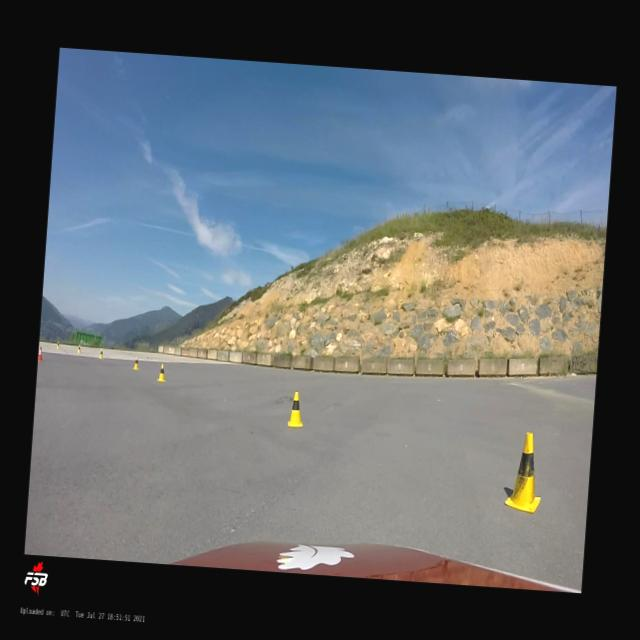orange_cone: (38, 346, 44, 361)
yellow_cone: (504, 431, 546, 514), (286, 390, 304, 428), (156, 362, 167, 382), (132, 356, 140, 370), (98, 348, 104, 359), (76, 344, 82, 354), (56, 341, 60, 348)
